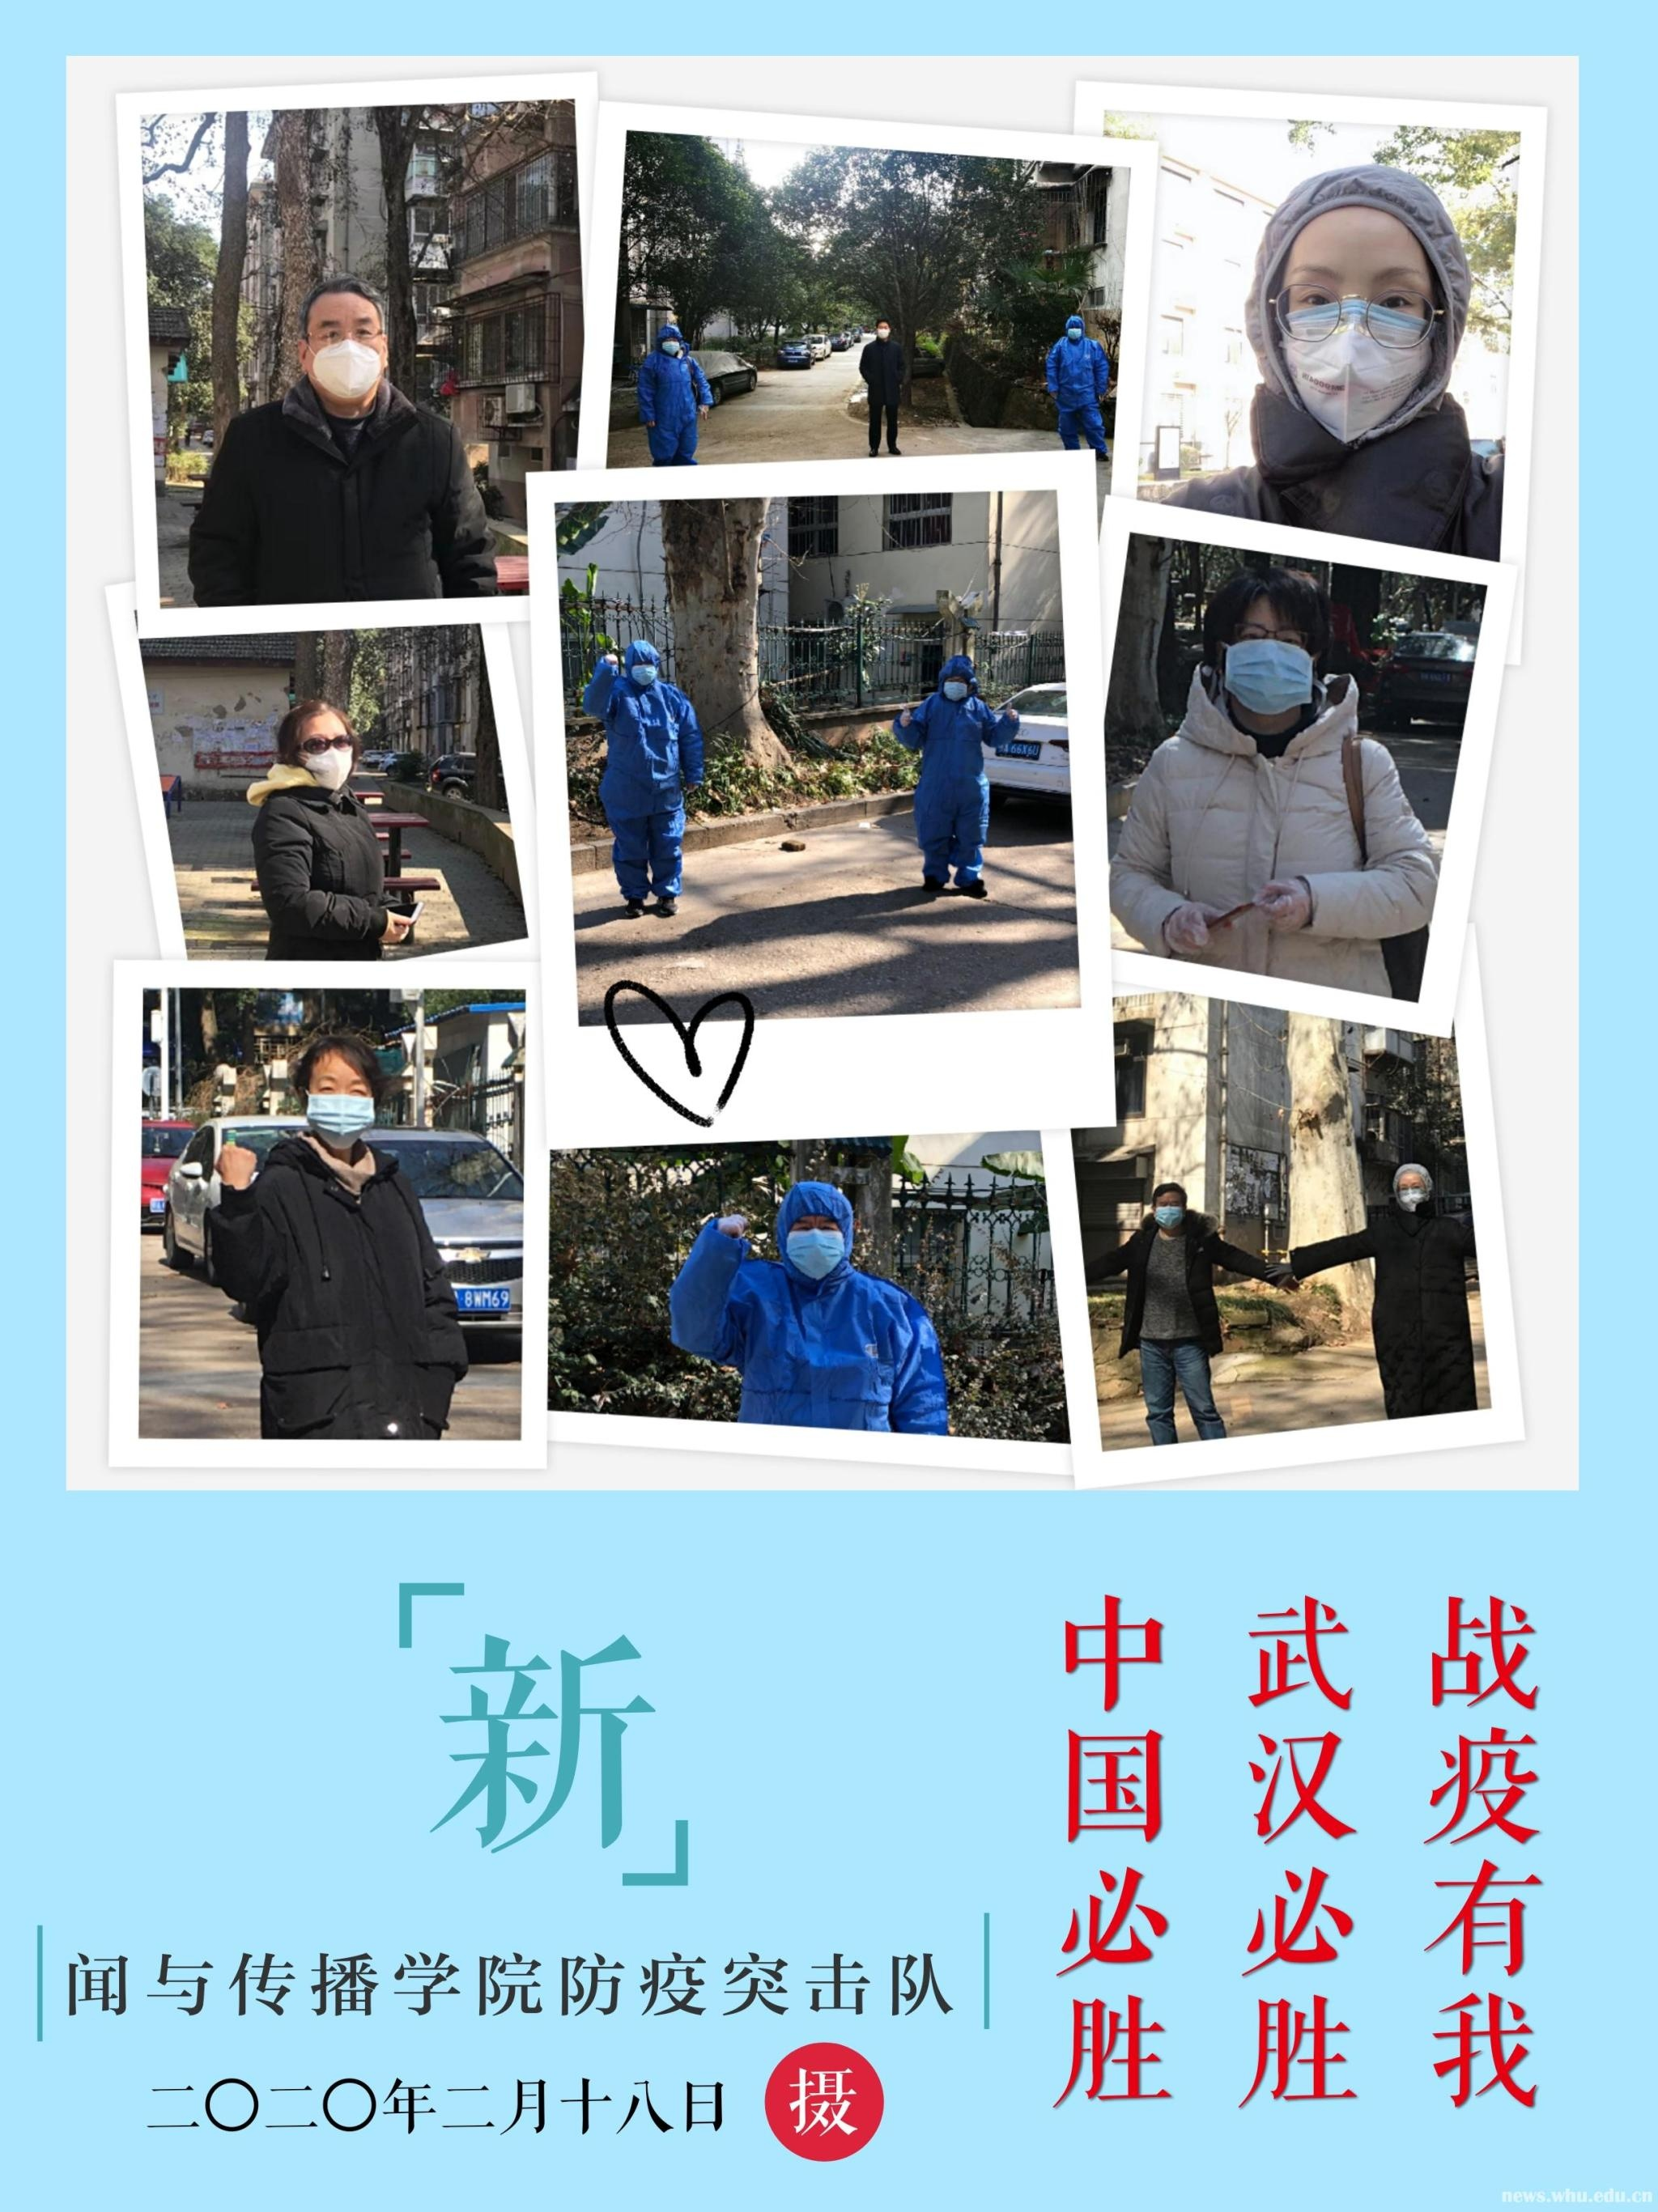correctlyWear: (1243, 256, 1466, 442), (1202, 609, 1334, 715), (294, 313, 392, 402), (768, 1199, 853, 1286), (294, 1067, 381, 1150), (277, 722, 357, 795), (1395, 1170, 1433, 1215), (1151, 1187, 1188, 1232), (939, 663, 974, 703), (625, 647, 660, 684), (658, 329, 683, 357), (1066, 320, 1082, 339), (876, 324, 888, 339)
